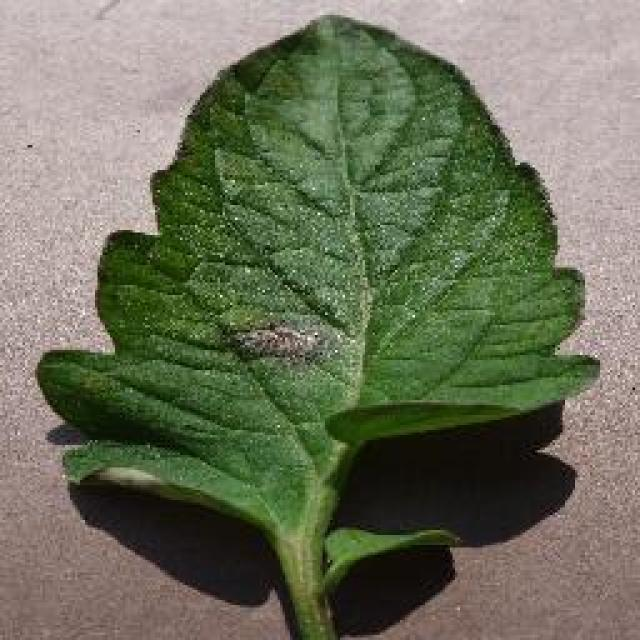Tomato Late Blight: (150, 39, 498, 384)
